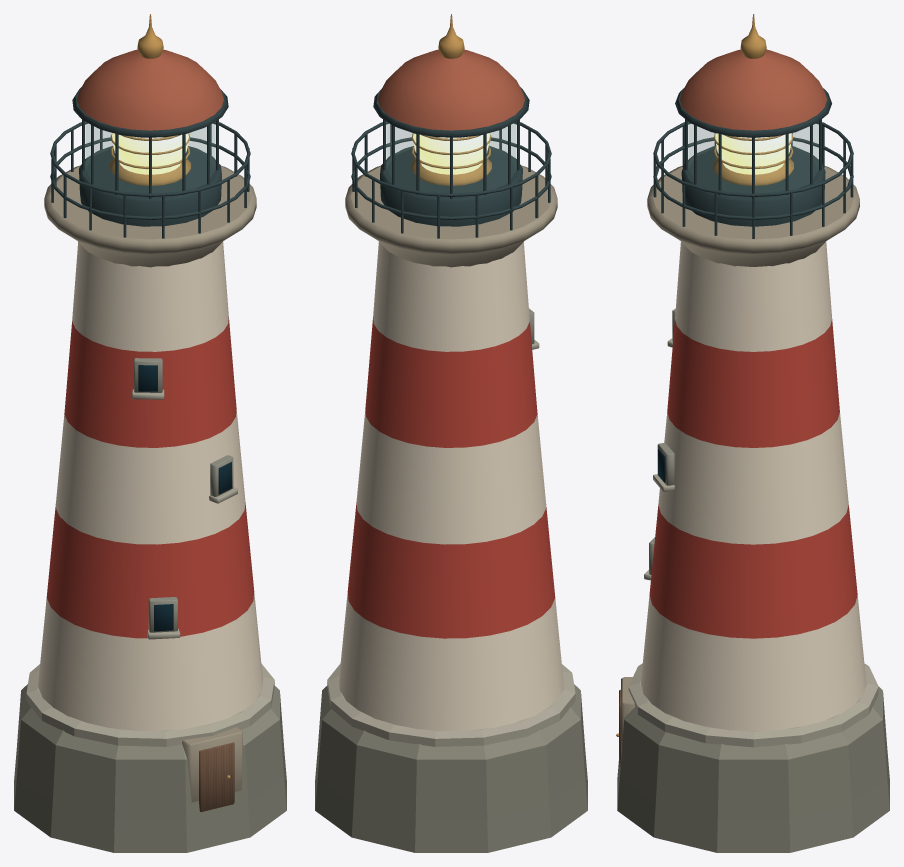
The model's file is lighthouse.glb.
The picture shows the model from 3 angles, left to right: view 1: azimuth 30°, elevation 25°; view 2: azimuth 150°, elevation 25°; view 3: azimuth 270°, elevation 25°; orthographic projection.
Visible parts, largest first — view 1: lighthouse_Limewash, lighthouse_Signal_Red, lighthouse_Masonry, lighthouse_Iron, lighthouse_Stone_Warm, lighthouse_Copper, lighthouse_Lantern_Glass, lighthouse_Stone_Light, lighthouse_Brass, lighthouse_Pier_Timber, lighthouse_Mat_LampGlow, lighthouse_Stone_Shade (+1 smaller); view 2: lighthouse_Limewash, lighthouse_Signal_Red, lighthouse_Masonry, lighthouse_Iron, lighthouse_Stone_Warm, lighthouse_Copper, lighthouse_Lantern_Glass, lighthouse_Stone_Light, lighthouse_Brass, lighthouse_Mat_LampGlow; view 3: lighthouse_Limewash, lighthouse_Signal_Red, lighthouse_Masonry, lighthouse_Iron, lighthouse_Stone_Warm, lighthouse_Copper, lighthouse_Lantern_Glass, lighthouse_Stone_Light, lighthouse_Brass, lighthouse_Mat_LampGlow, lighthouse_Stone_Shade.
Boxes of the visible parts, x1,y1,x2,y2 form: lighthouse_Limewash: (38,242,262,730); lighthouse_Signal_Red: (46,317,254,638); lighthouse_Masonry: (14,684,286,852); lighthouse_Iron: (50,87,250,238); lighthouse_Stone_Warm: (44,165,256,802); lighthouse_Copper: (77,49,223,130); lighthouse_Lantern_Glass: (85,122,215,192); lighthouse_Stone_Light: (26,389,274,746); lighthouse_Brass: (110,14,230,778); lighthouse_Pier_Timber: (199,742,234,811); lighthouse_Mat_LampGlow: (112,133,188,174); lighthouse_Stone_Shade: (134,358,233,632); lighthouse_Limewash: (339,242,563,730); lighthouse_Signal_Red: (347,317,555,638); lighthouse_Masonry: (315,684,587,852); lighthouse_Iron: (351,87,551,238); lighthouse_Stone_Warm: (345,165,557,267); lighthouse_Copper: (378,49,524,130); lighthouse_Lantern_Glass: (386,122,516,192); lighthouse_Stone_Light: (327,340,575,746); lighthouse_Brass: (411,14,491,185); lighthouse_Mat_LampGlow: (413,133,489,174); lighthouse_Limewash: (640,241,866,731); lighthouse_Signal_Red: (649,319,857,638); lighthouse_Masonry: (617,686,889,852); lighthouse_Iron: (653,88,853,238); lighthouse_Stone_Warm: (621,166,859,757); lighthouse_Copper: (680,49,826,130); lighthouse_Lantern_Glass: (688,122,818,192); lighthouse_Stone_Light: (628,338,878,747); lighthouse_Brass: (616,14,793,736); lighthouse_Mat_LampGlow: (715,133,791,174); lighthouse_Stone_Shade: (649,308,675,574).
Size of the model in its own units: 4.93 by 15.57 by 4.95.
Materials: 13 (1 with a texture image).
